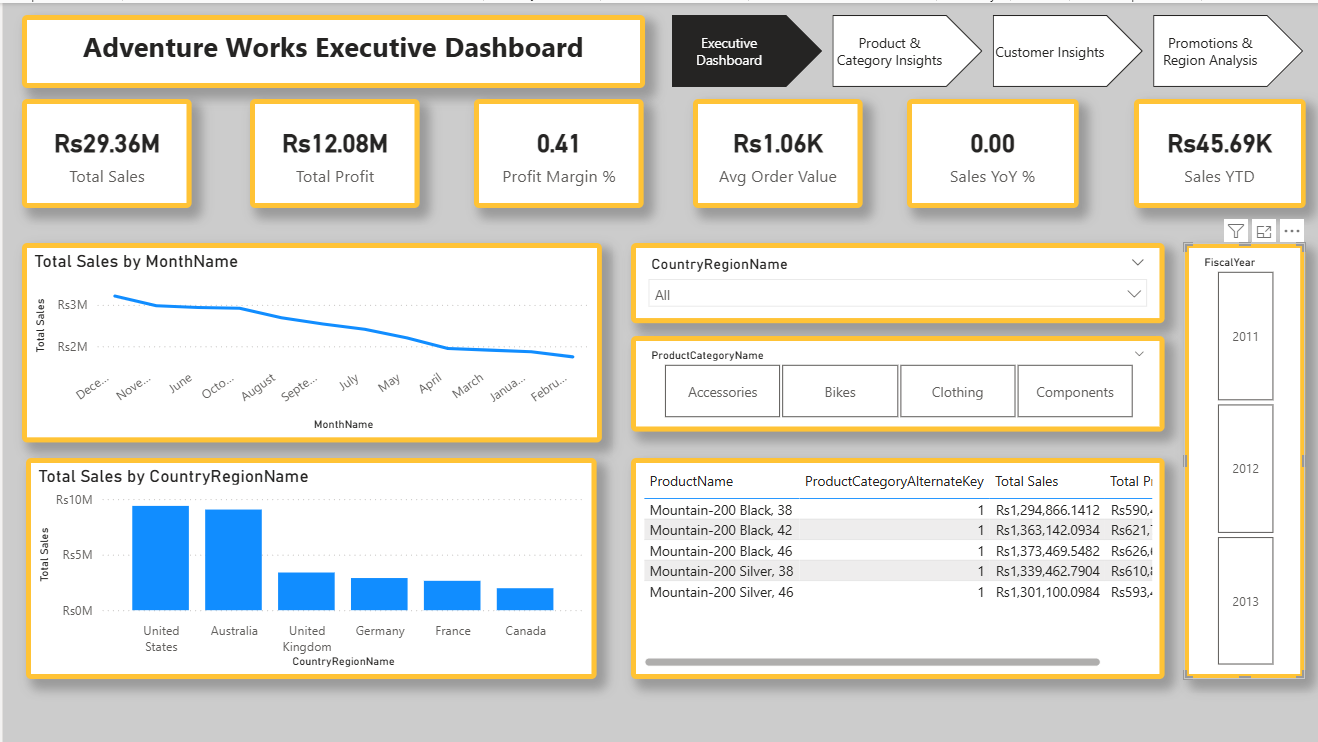

The dashboard page shown, as its layout file describes it:
{"tool":"powerbi","page":{"name":"Executive Dashboard","canvas":[1280,720],"ordinal":0},"visuals":[{"type":"textbox","box":[18,11.3,605.7,70.9],"z":0},{"type":"card","fields":{"Values":["Measurestbl.Total Sales"]},"box":[18,93.4,165.5,105.8],"z":1000},{"type":"card","fields":{"Values":["Measurestbl.Total Profit"]},"box":[239.8,93.4,165.5,105.8],"z":2000},{"type":"card","fields":{"Values":["Measurestbl.Profit Margin %"]},"box":[458.2,93.4,165.5,105.8],"z":3000},{"type":"card","fields":{"Values":["Measurestbl.Avg Order Value"]},"box":[671,93.4,165.5,105.8],"z":4000},{"type":"card","fields":{"Values":["Measurestbl.Sales YoY %"]},"box":[879.2,93.4,166.6,105.8],"z":5000},{"type":"lineChart","fields":{"Y":["Measurestbl.Total Sales"],"Category":["DimDate.MonthName"]},"box":[18,233,564,193.6],"z":6000},{"type":"columnChart","fields":{"Category":["DimGeography.CountryRegionName"],"Y":["Measurestbl.Total Sales"]},"box":[22.5,442.4,555,215],"z":7000},{"type":"tableEx","fields":{"Values":["DimProduct.ProductName","DimProductCategory.ProductCategoryAlternateKey","Measurestbl.Total Sales","Measurestbl.Total Profit"]},"box":[611.3,442.4,519,215],"z":8000},{"type":"slicer","fields":{"Values":["DimDate.FiscalYear"]},"box":[1148.3,233,118.2,424.4],"z":9000},{"type":"slicer","fields":{"Values":["DimGeography.CountryRegionName"]},"box":[611.3,233,519,77.7],"z":10000},{"type":"slicer","fields":{"Values":["DimProductCategory.ProductCategoryName"]},"box":[611.3,324.2,519,93.4],"z":11000},{"type":"card","fields":{"Values":["Measurestbl.Sales YTD"]},"box":[1099.9,93.4,166.6,105.8],"z":12000},{"type":"pageNavigator","box":[650.7,11.3,615.8,70.9],"z":13000}]}

Visuals, with their boxes in screenshot pixels (x1, y1, x2, y2), scaled from the page's 1280x720 canvas onto the 1318x742 screenshot:
textbox: [19, 12, 642, 85]
card - Measurestbl.Total Sales: [19, 96, 189, 205]
card - Measurestbl.Total Profit: [247, 96, 417, 205]
card - Measurestbl.Profit Margin %: [472, 96, 642, 205]
card - Measurestbl.Avg Order Value: [691, 96, 861, 205]
card - Measurestbl.Sales YoY %: [905, 96, 1077, 205]
lineChart - Measurestbl.Total Sales x DimDate.MonthName: [19, 240, 599, 440]
columnChart - DimGeography.CountryRegionName x Measurestbl.Total Sales: [23, 456, 595, 677]
tableEx - DimProduct.ProductName x DimProductCategory.ProductCategoryAlternateKey: [629, 456, 1164, 677]
slicer - DimDate.FiscalYear: [1182, 240, 1304, 677]
slicer - DimGeography.CountryRegionName: [629, 240, 1164, 320]
slicer - DimProductCategory.ProductCategoryName: [629, 334, 1164, 430]
card - Measurestbl.Sales YTD: [1133, 96, 1304, 205]
pageNavigator: [670, 12, 1304, 85]
